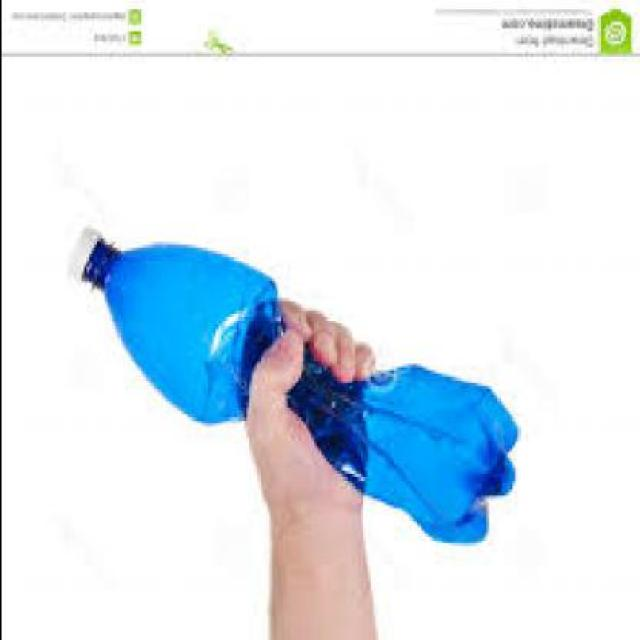PLASTIC: (64, 229, 510, 546), (64, 237, 98, 286)
